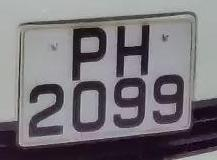0: (66, 73, 112, 138)
2: (23, 75, 70, 145)
9: (106, 73, 156, 133), (147, 65, 188, 131)
H: (108, 18, 160, 83)
P: (63, 21, 115, 84)
